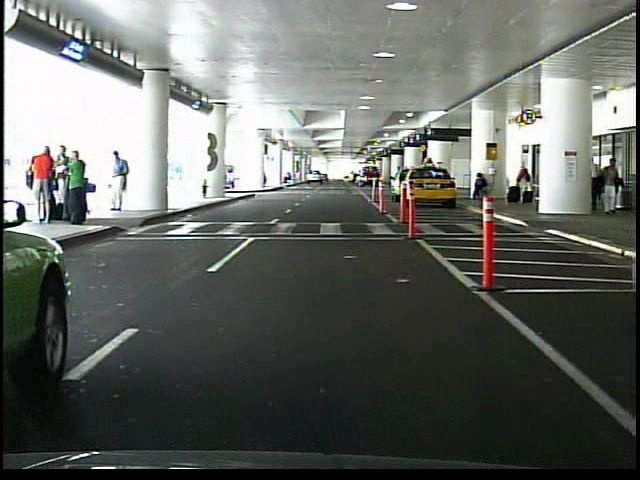person: (67, 151, 91, 228), (37, 148, 58, 223), (597, 154, 622, 216), (108, 151, 132, 215), (59, 144, 74, 212), (516, 160, 532, 206), (471, 171, 490, 201)
